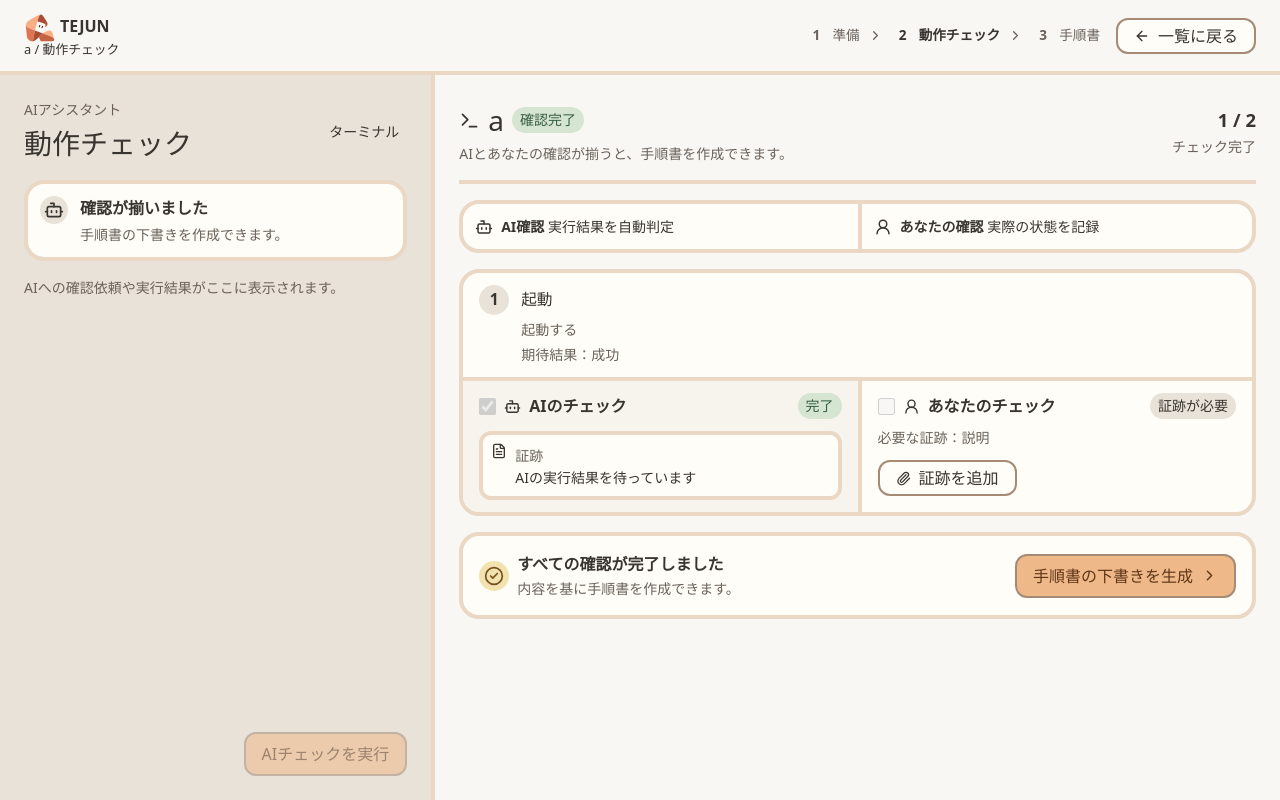
Test: ExecutionRoute › 生成失敗時は画面に留まりエラーを表示する
Expected: the heading "a" is shown, left=488, top=99, right=504, bottom=141
Click the button "手順書の下書きを生成" at (1126, 576), box left=1015, top=554, right=1236, bottom=598
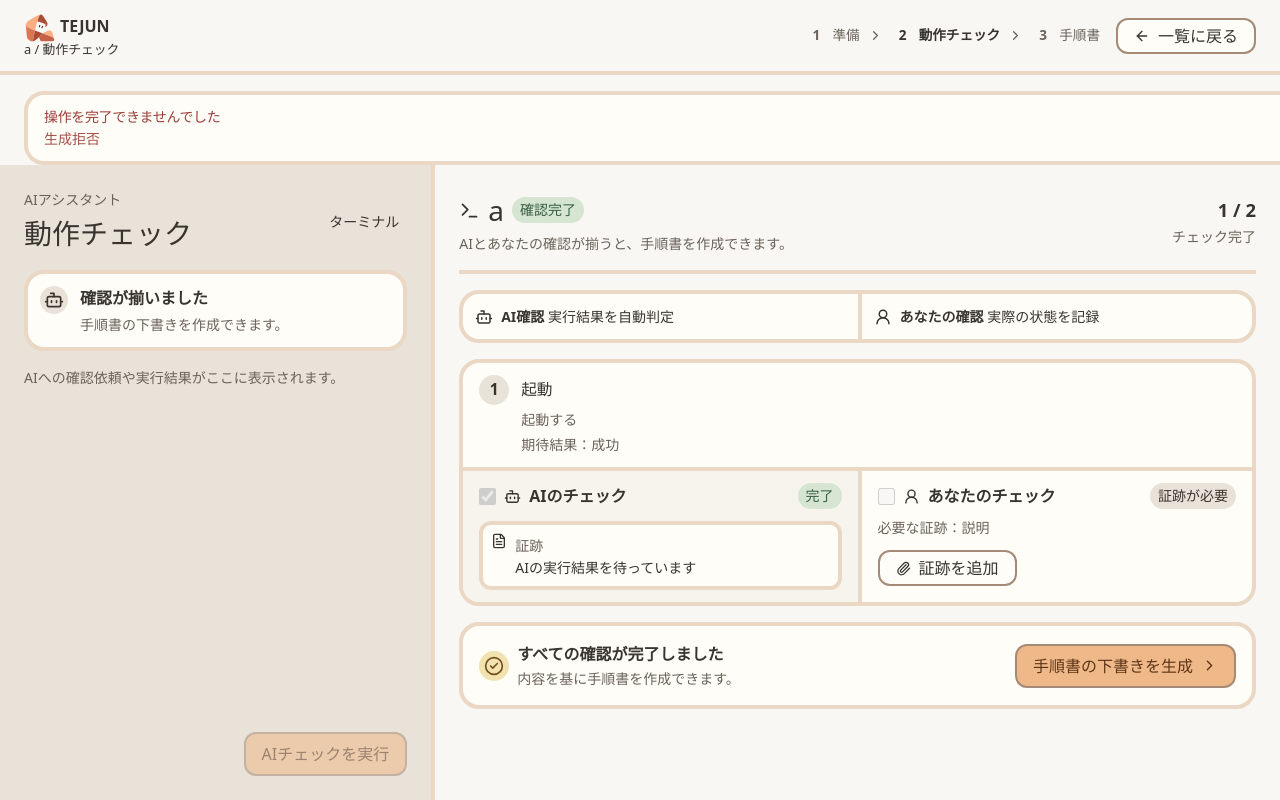
Expected: the text "生成拒否" is shown, left=44, top=129, right=100, bottom=148
